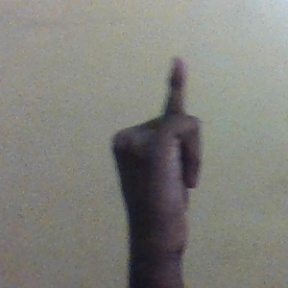I: (111, 54, 205, 235)
